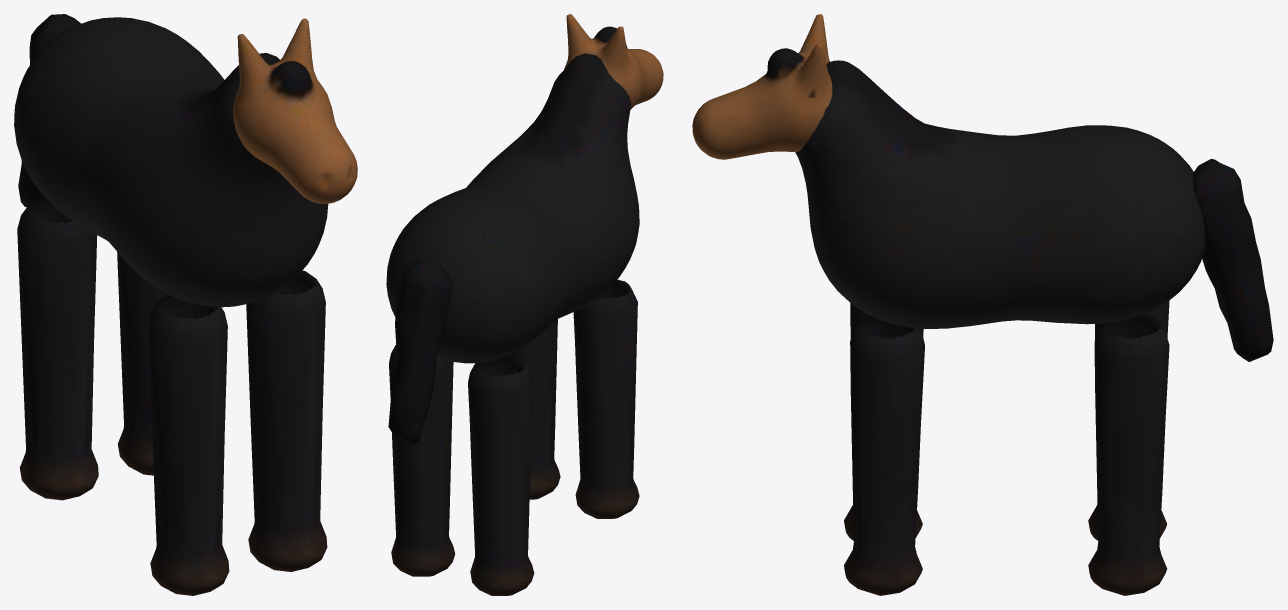
The model's file is animal_friesian.glb.
3 renders of one model, left to right at view 1: azimuth 30°, elevation 25°; view 2: azimuth 150°, elevation 25°; view 3: azimuth 270°, elevation 25°, orthographic. The views are drawn at different scales.
Visible parts, largest first — view 1: animal_friesian, leg0, leg2, leg1, head, leg3, tail; view 2: animal_friesian, leg2, leg0, leg3, tail, leg1, head; view 3: animal_friesian, leg3, leg1, head, tail, leg2.
Boxes of the visible parts, left/top/right/bottom form: animal_friesian: left=14, top=17, right=328, bottom=307; leg0: left=148, top=295, right=229, bottom=595; leg2: left=17, top=198, right=98, bottom=500; leg1: left=246, top=270, right=327, bottom=571; head: left=233, top=18, right=357, bottom=203; leg3: left=117, top=252, right=169, bottom=475; tail: left=18, top=14, right=81, bottom=207; animal_friesian: left=386, top=53, right=639, bottom=363; leg2: left=468, top=355, right=534, bottom=595; leg0: left=573, top=279, right=639, bottom=518; leg3: left=389, top=344, right=455, bottom=576; tail: left=388, top=260, right=452, bottom=444; leg1: left=509, top=319, right=560, bottom=499; head: left=564, top=14, right=663, bottom=109; animal_friesian: left=795, top=60, right=1205, bottom=328; leg3: left=1088, top=314, right=1169, bottom=595; leg1: left=844, top=315, right=924, bottom=595; head: left=692, top=14, right=832, bottom=159; tail: left=1193, top=159, right=1273, bottom=361; leg2: left=1088, top=300, right=1169, bottom=540.
Size of the model in its own units: 0.2459 by 0.7315 by 0.7135.
1 material, 1 textured.
